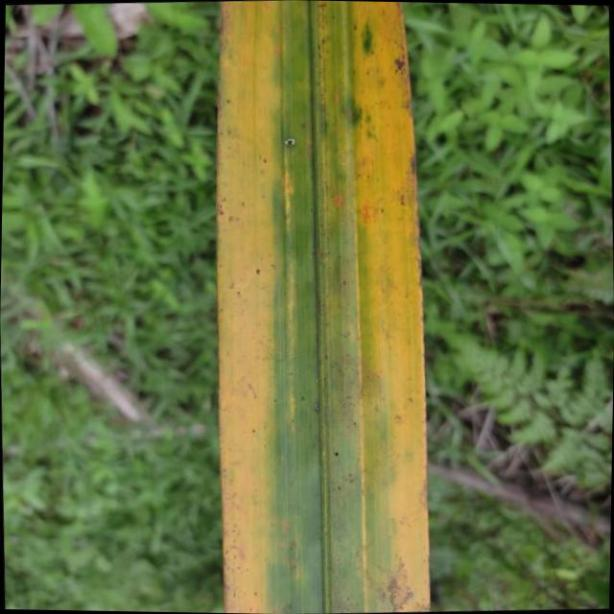Megnesium: (211, 1, 431, 614)
